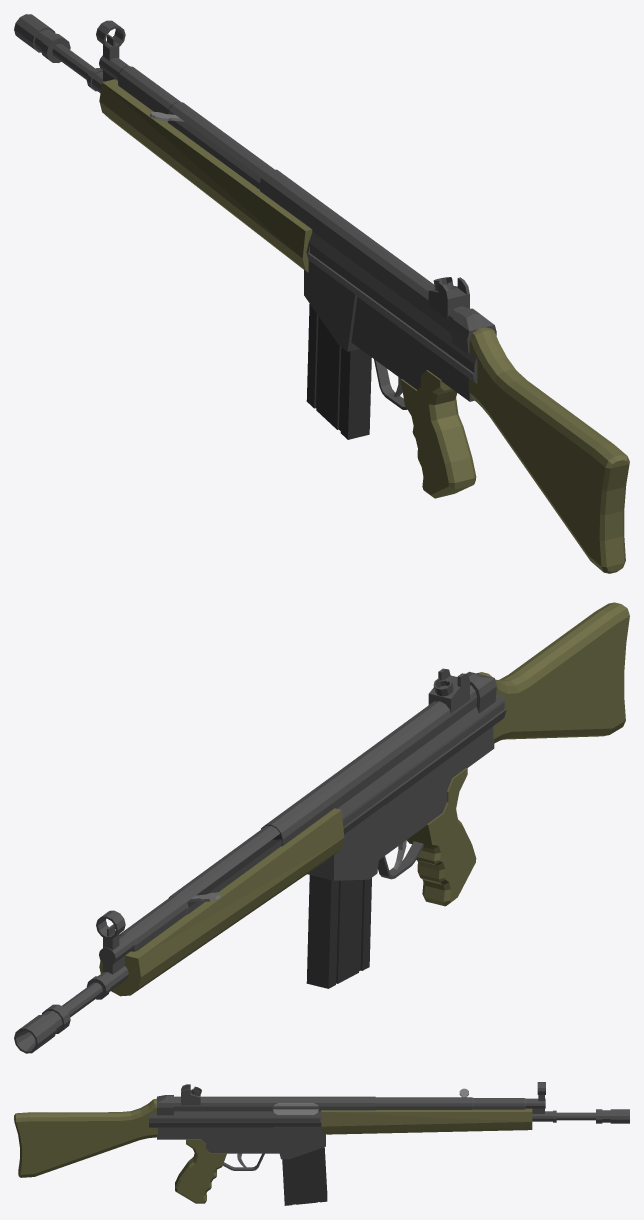
The picture shows the model from 3 angles, top to bottom: view 1: azimuth 30°, elevation 25°; view 2: azimuth 150°, elevation 25°; view 3: azimuth 270°, elevation 25°; orthographic projection. The views are drawn at different scales.
Visible parts, largest first — view 1: G3A4, Magazin; view 2: G3A4, Magazin; view 3: G3A4, Magazin, Bolt.
Boxes of the visible parts, <box> form: G3A4: <box>14,14,629,573</box>; Magazin: <box>306,304,371,439</box>; G3A4: <box>14,602,629,1053</box>; Magazin: <box>306,875,371,988</box>; G3A4: <box>14,1082,629,1203</box>; Magazin: <box>282,1147,327,1205</box>; Bolt: <box>272,1088,468,1114</box>.
Bounding box in the file's own units: 40.81 × 163 × 755.
1 material, 1 textured.
